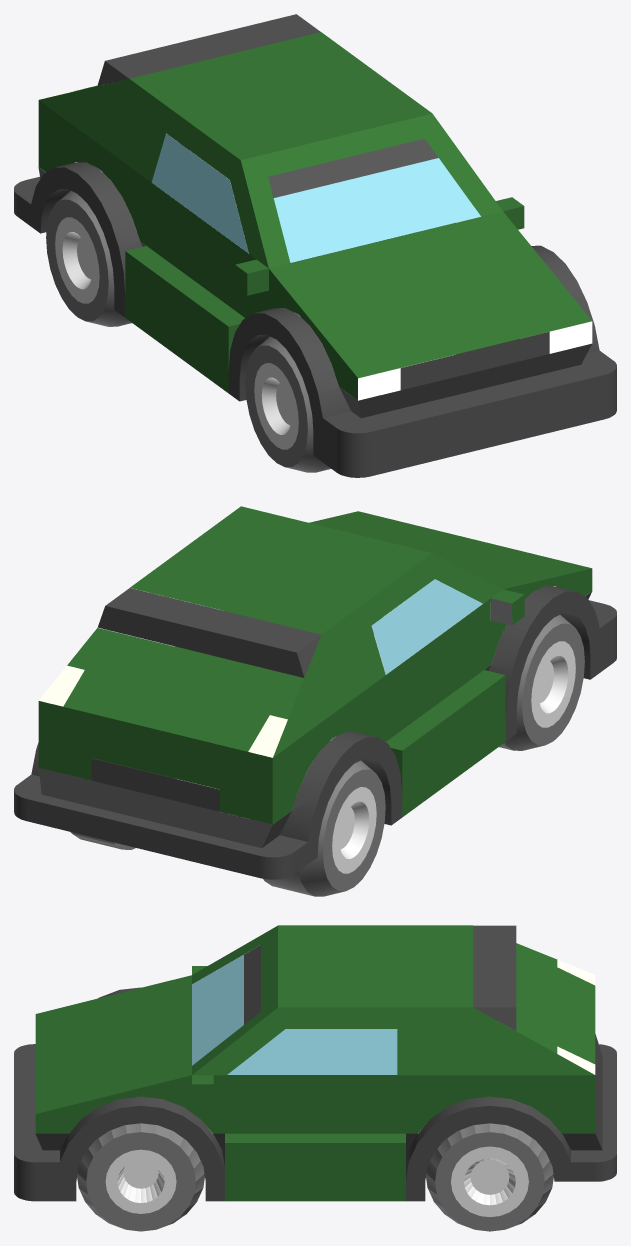
File: car.gltf
3 views of the same model, one above another, from view 1: azimuth 30°, elevation 25°; view 2: azimuth 150°, elevation 25°; view 3: azimuth 270°, elevation 25° (orthographic). The views are drawn at different scales.
Parts seen in each view (by area): view 1: body.004, wheel_frontRight.004, wheel_backRight.004; view 2: body.004, wheel_backRight.004, wheel_frontRight.004; view 3: body.004, wheel_backLeft.004, wheel_frontLeft.004.
Boxes of the visible parts, left/top/right/bottom form: body.004: left=14, top=14, right=616, bottom=477; wheel_frontRight.004: left=245, top=335, right=368, bottom=472; wheel_backRight.004: left=46, top=191, right=140, bottom=326; body.004: left=14, top=506, right=616, bottom=879; wheel_backRight.004: left=263, top=759, right=385, bottom=896; wheel_frontRight.004: left=490, top=602, right=584, bottom=750; body.004: left=14, top=925, right=616, bottom=1201; wheel_backLeft.004: left=426, top=1123, right=553, bottom=1231; wheel_frontLeft.004: left=77, top=1123, right=204, bottom=1231.
Size of the model in its own units: 1.3 by 1.1 by 2.8.
